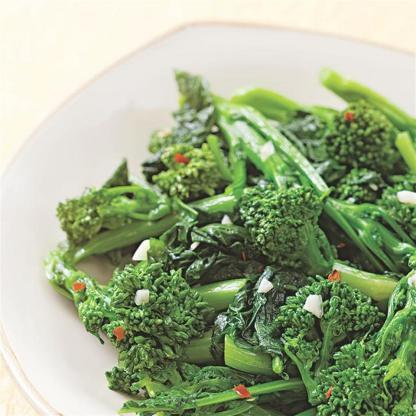broccoli: (44, 68, 416, 416)
